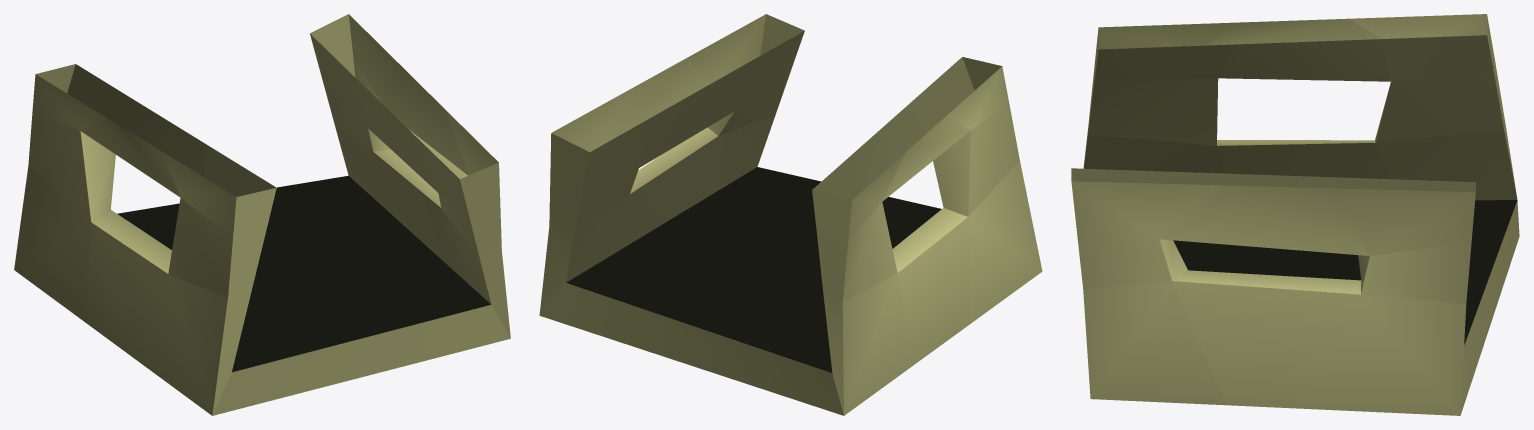
Rendered from c_garage_body_aa.fbx.
The picture shows the model from 3 angles, left to right: view 1: azimuth 30°, elevation 25°; view 2: azimuth 150°, elevation 25°; view 3: azimuth 270°, elevation 25°; orthographic projection. The views are drawn at different scales.
Visible parts, largest first — view 1: c_garage_body_aa; view 2: c_garage_body_aa; view 3: c_garage_body_aa.
Part boxes in pixels (x1,y1,x2,y2): c_garage_body_aa: [14, 14, 510, 415]; c_garage_body_aa: [539, 14, 1042, 415]; c_garage_body_aa: [1071, 14, 1519, 415].
Bounding box in the file's own units: 6.41 × 3.76 × 6.74.
